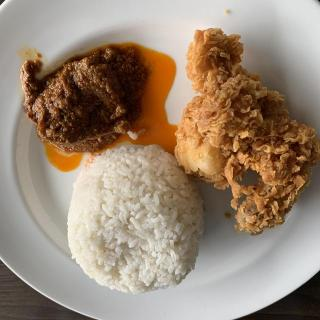Nasi: (68, 147, 206, 297)
